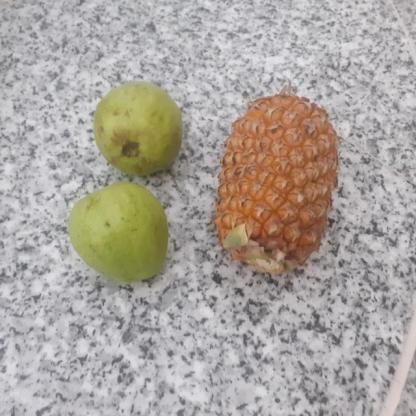guava: (62, 184, 168, 283), (89, 84, 183, 175)
pineapple: (213, 93, 338, 276)
